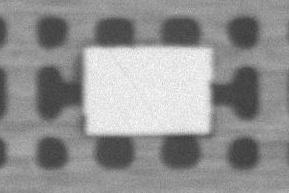DIE_CRACK: (163, 33, 246, 86)
